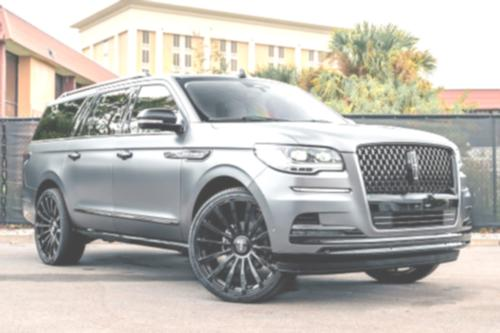lincoln: (404, 147, 423, 183)
